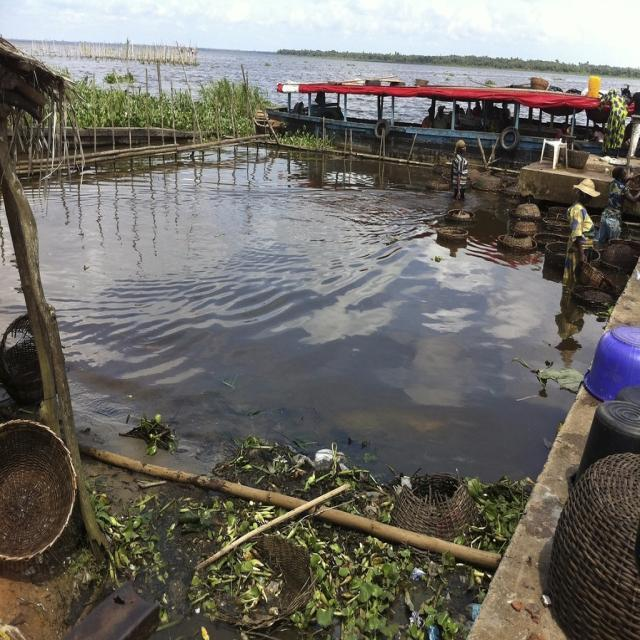Hyacinth: (203, 437, 433, 640), (61, 78, 257, 148)
boat: (251, 75, 638, 180)
